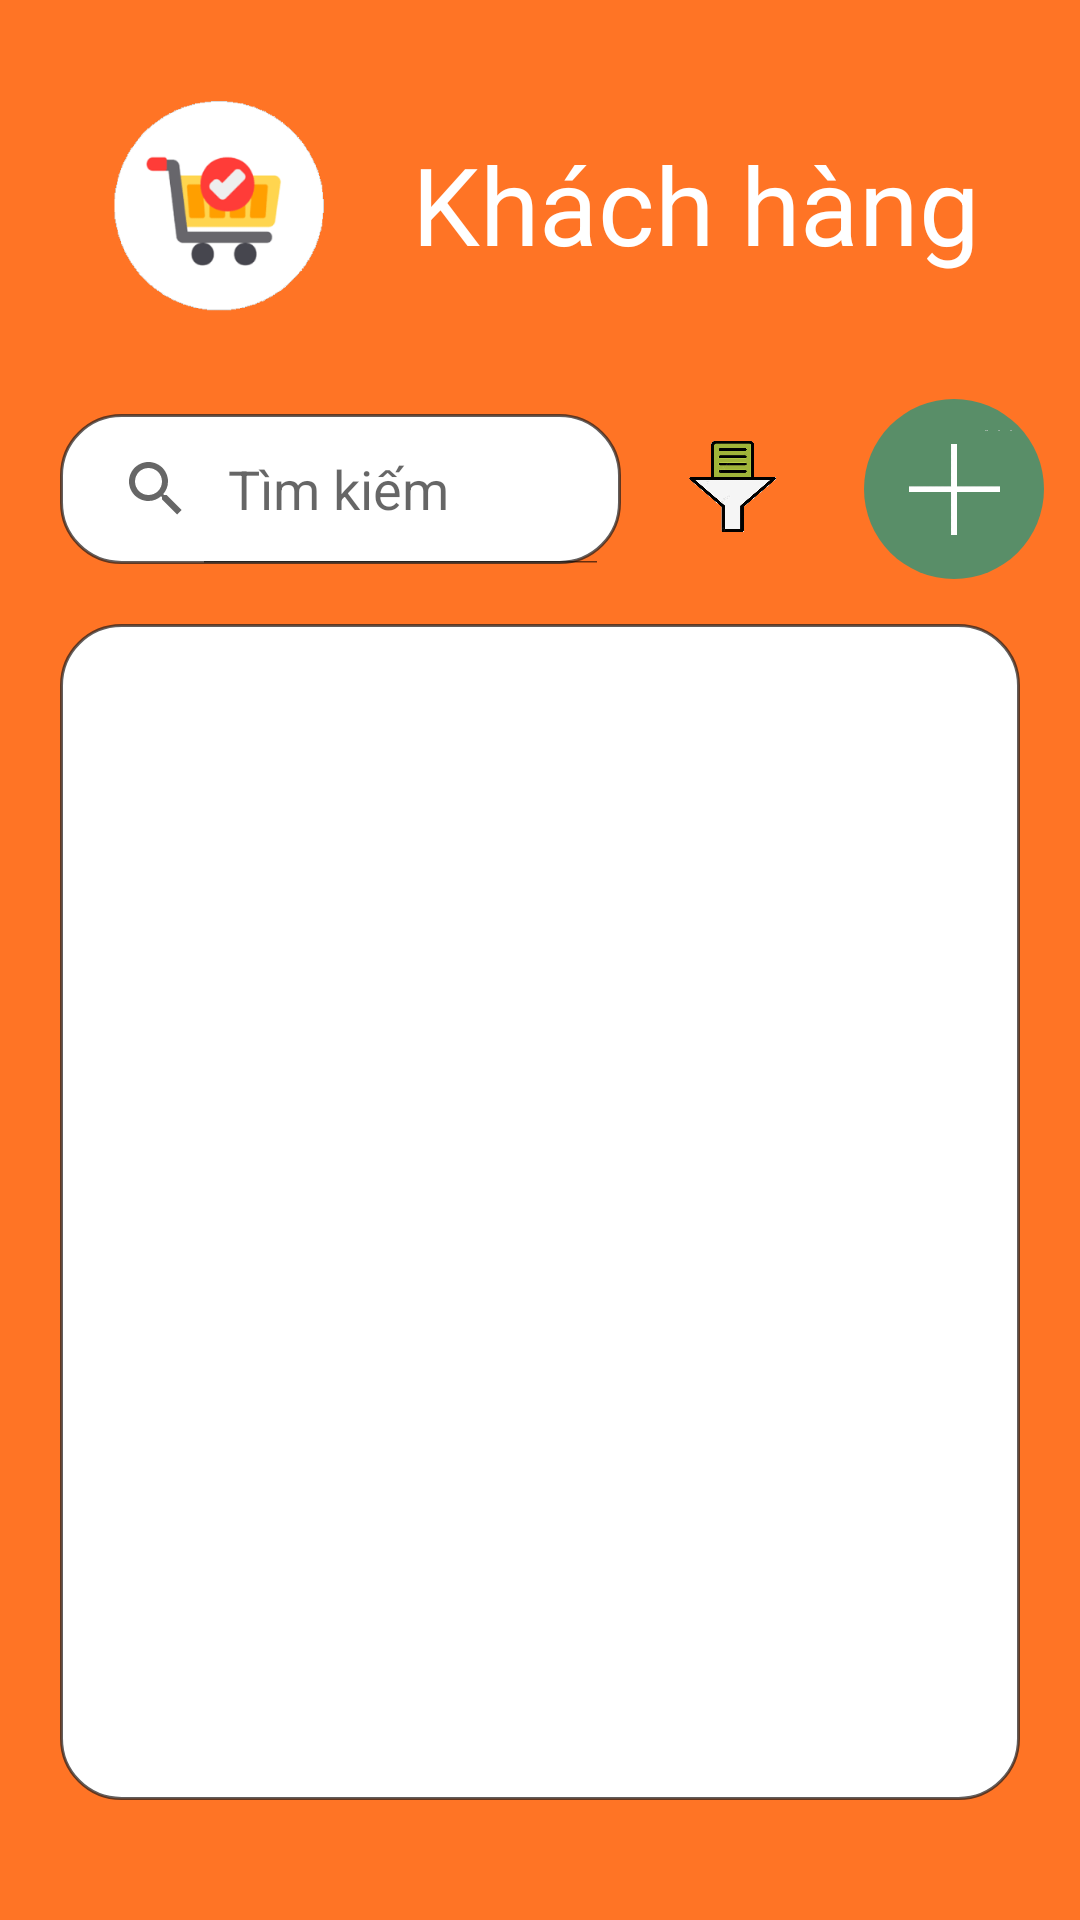

Where icons sit on this 1080*1920 app screen, as (x1, y1, x2, y2):
plus: (909, 430, 1012, 535)
